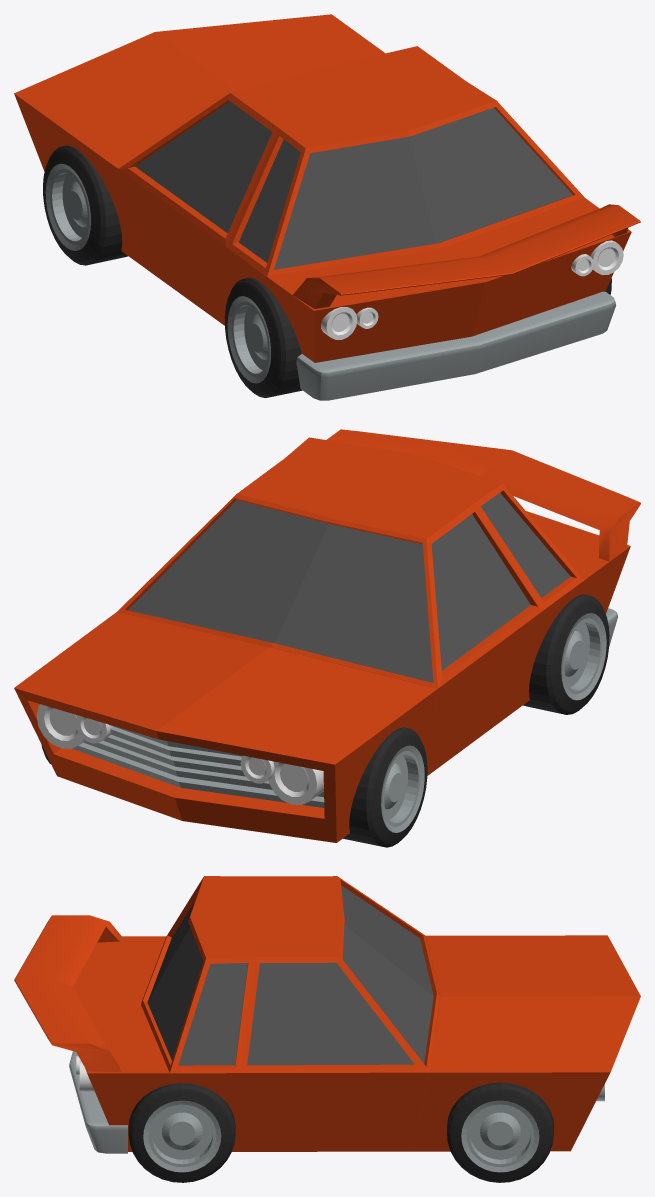
The model's file is Sportscoup.fbx.
3 renders of one model, top to bottom at view 1: azimuth 30°, elevation 25°; view 2: azimuth 150°, elevation 25°; view 3: azimuth 270°, elevation 25°, orthographic. The views are drawn at different scales.
Visible parts, largest first — view 1: pCylinder11; view 2: pCylinder11; view 3: pCylinder11.
Boxes of the visible parts, <box> form: pCylinder11: <box>14,14,640,400</box>; pCylinder11: <box>14,429,640,847</box>; pCylinder11: <box>14,876,640,1182</box>.
Size of the model in its own units: 438 by 273 by 796.
